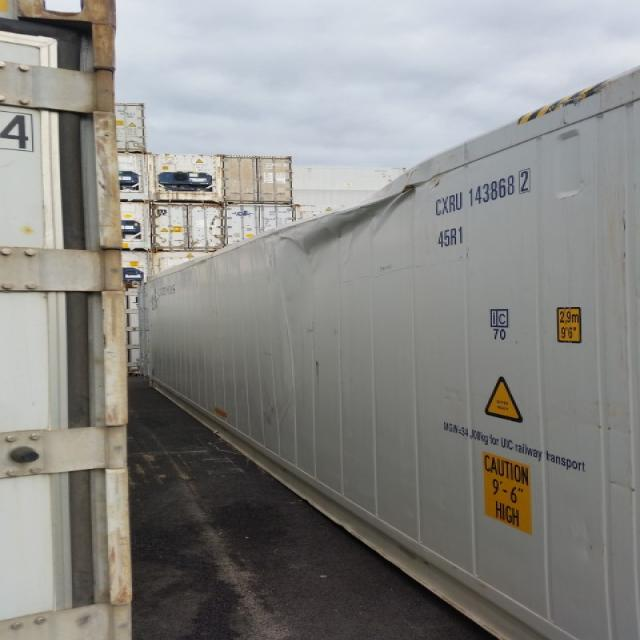dent: (236, 154, 473, 255), (273, 183, 436, 264)
